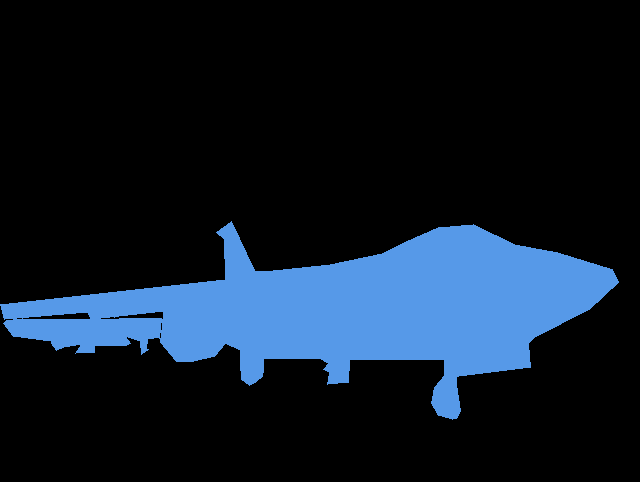Airplane: (0, 221, 618, 419), (3, 317, 162, 355)
